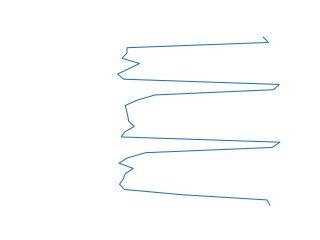majorRiverChannelBar: (115, 35, 282, 208)
